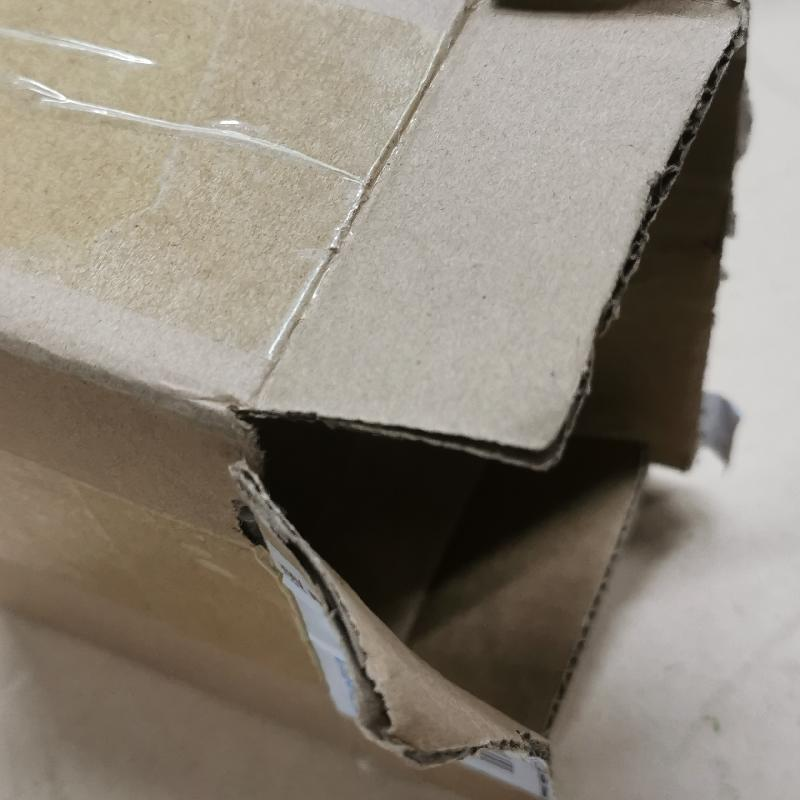boxes: (4, 1, 747, 797)
